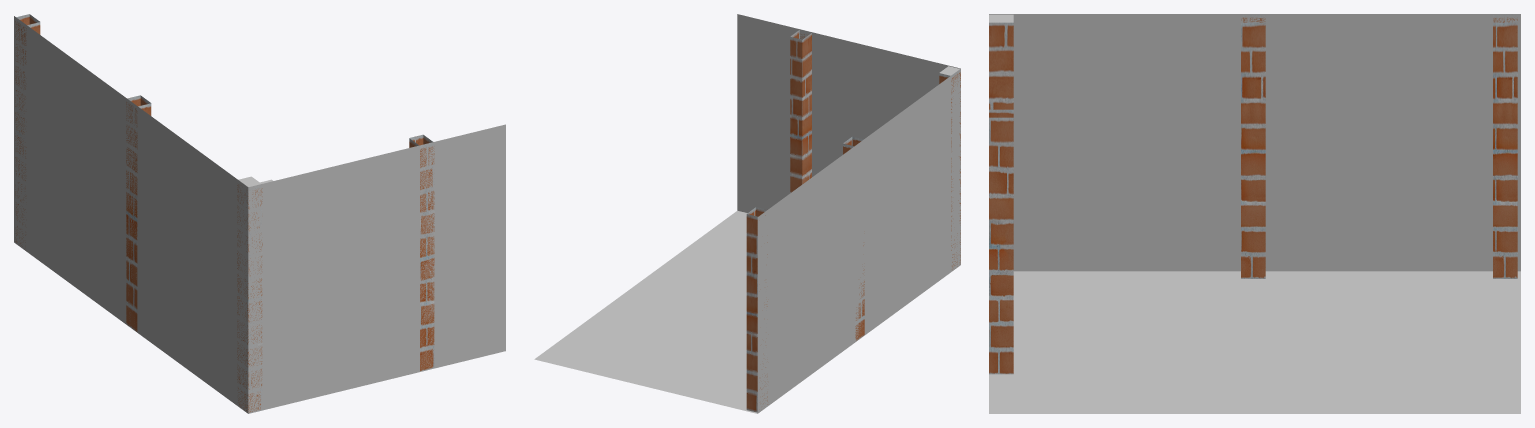
File: sahne.fbx
The picture shows the model from 3 angles, left to right: view 1: azimuth 30°, elevation 25°; view 2: azimuth 150°, elevation 25°; view 3: azimuth 270°, elevation 25°; orthographic projection. The views are drawn at different scales.
Visible parts, largest first — view 1: Plane, Plane.001, Plane.003, Plane.002; view 2: Plane, Plane.003, Plane.001, Plane.002; view 3: Plane, Plane.001, Plane.003, Plane.002.
Part boxes in pixels (x1=…): Plane: x1=14, y1=16, x2=505, y2=413; Plane.001: x1=15, y1=14, x2=151, y2=332; Plane.003: x1=409, y1=134, x2=434, y2=371; Plane.002: x1=237, y1=183, x2=262, y2=413; Plane: x1=534, y1=14, x2=960, y2=413; Plane.003: x1=790, y1=30, x2=811, y2=192; Plane.001: x1=746, y1=136, x2=864, y2=412; Plane.002: x1=939, y1=69, x2=960, y2=269; Plane: x1=989, y1=14, x2=1520, y2=413; Plane.001: x1=1241, y1=14, x2=1517, y2=278; Plane.003: x1=989, y1=109, x2=1013, y2=374; Plane.002: x1=989, y1=22, x2=1013, y2=109.
Bounding box in the file's own units: 1599 × 1345 × 2519.
